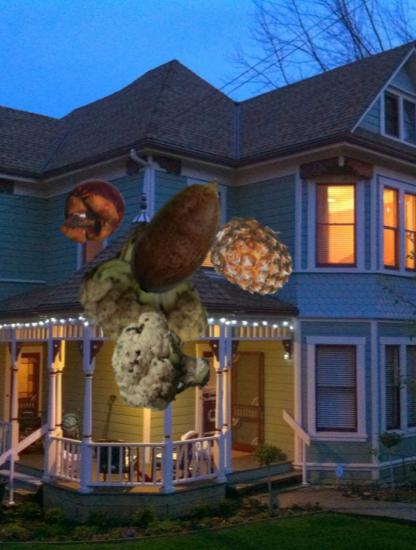Cauliflower: (83, 224, 220, 361), (109, 309, 213, 413)
Mangostan: (56, 177, 129, 250)
Nut: (113, 168, 248, 303)
Pineapple: (207, 212, 297, 302)
